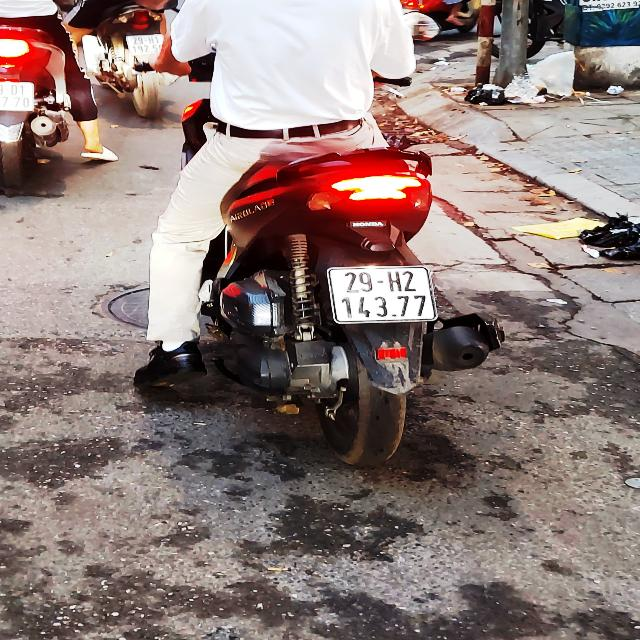license_plate: (320, 265, 443, 330)
